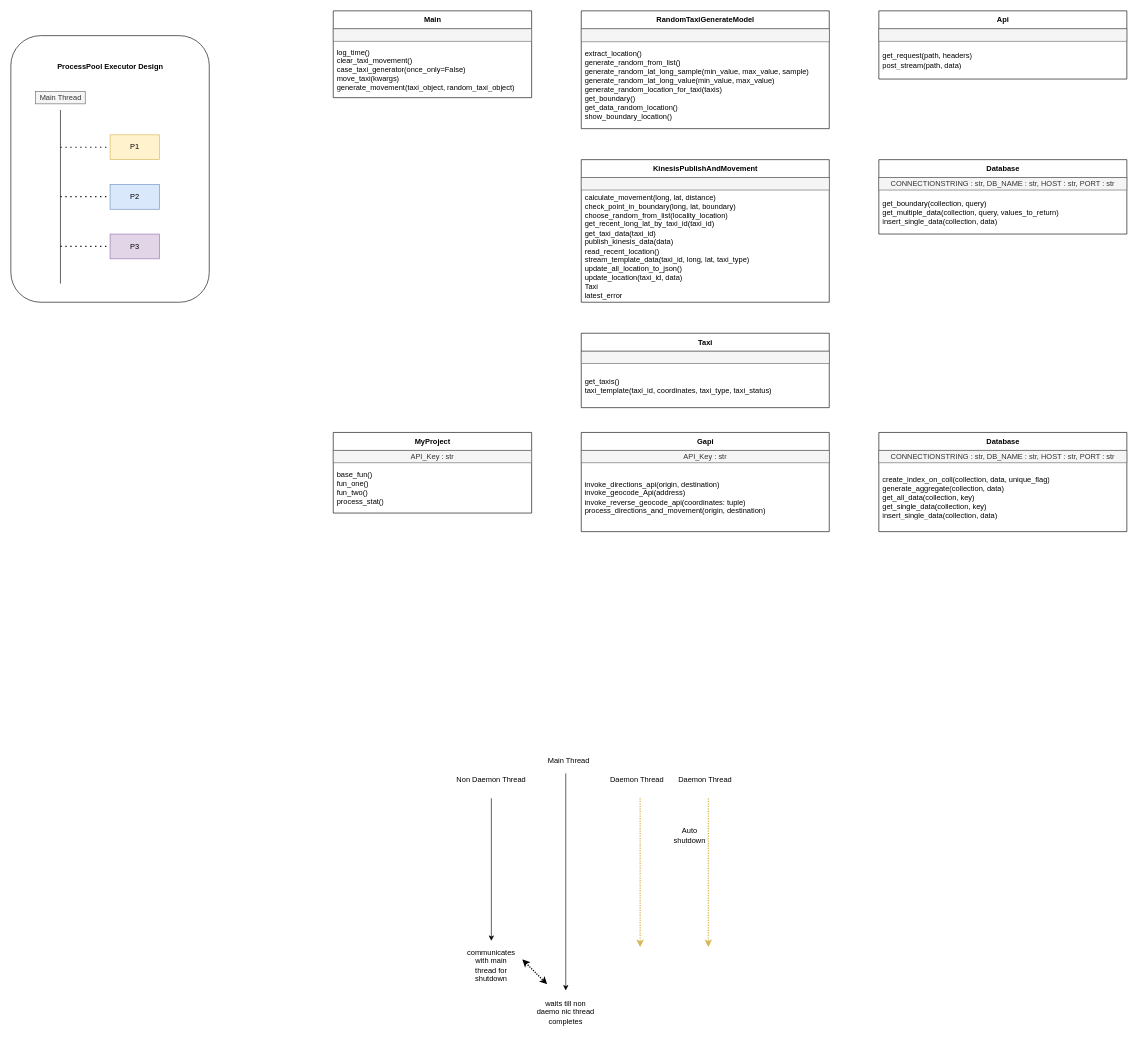
Some shapes in this 1138 by 1045 pixel diagram are drawn without their labels. The centre of each missing label's shape, as x and y in pixels:
"BASE_URL : str" goes at point (1002, 34).
"file" goes at point (432, 34).
"latest_error, location_list" goes at point (705, 35).
"latest_error, taxis" goes at point (705, 357).
"LOCATION_FILE : str" goes at point (705, 183).
